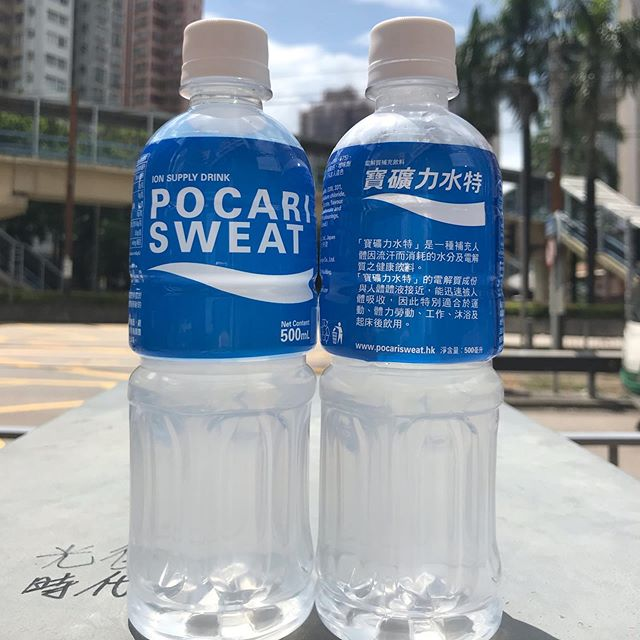POCARI SWEAT: (121, 12, 312, 640), (322, 13, 512, 637)
